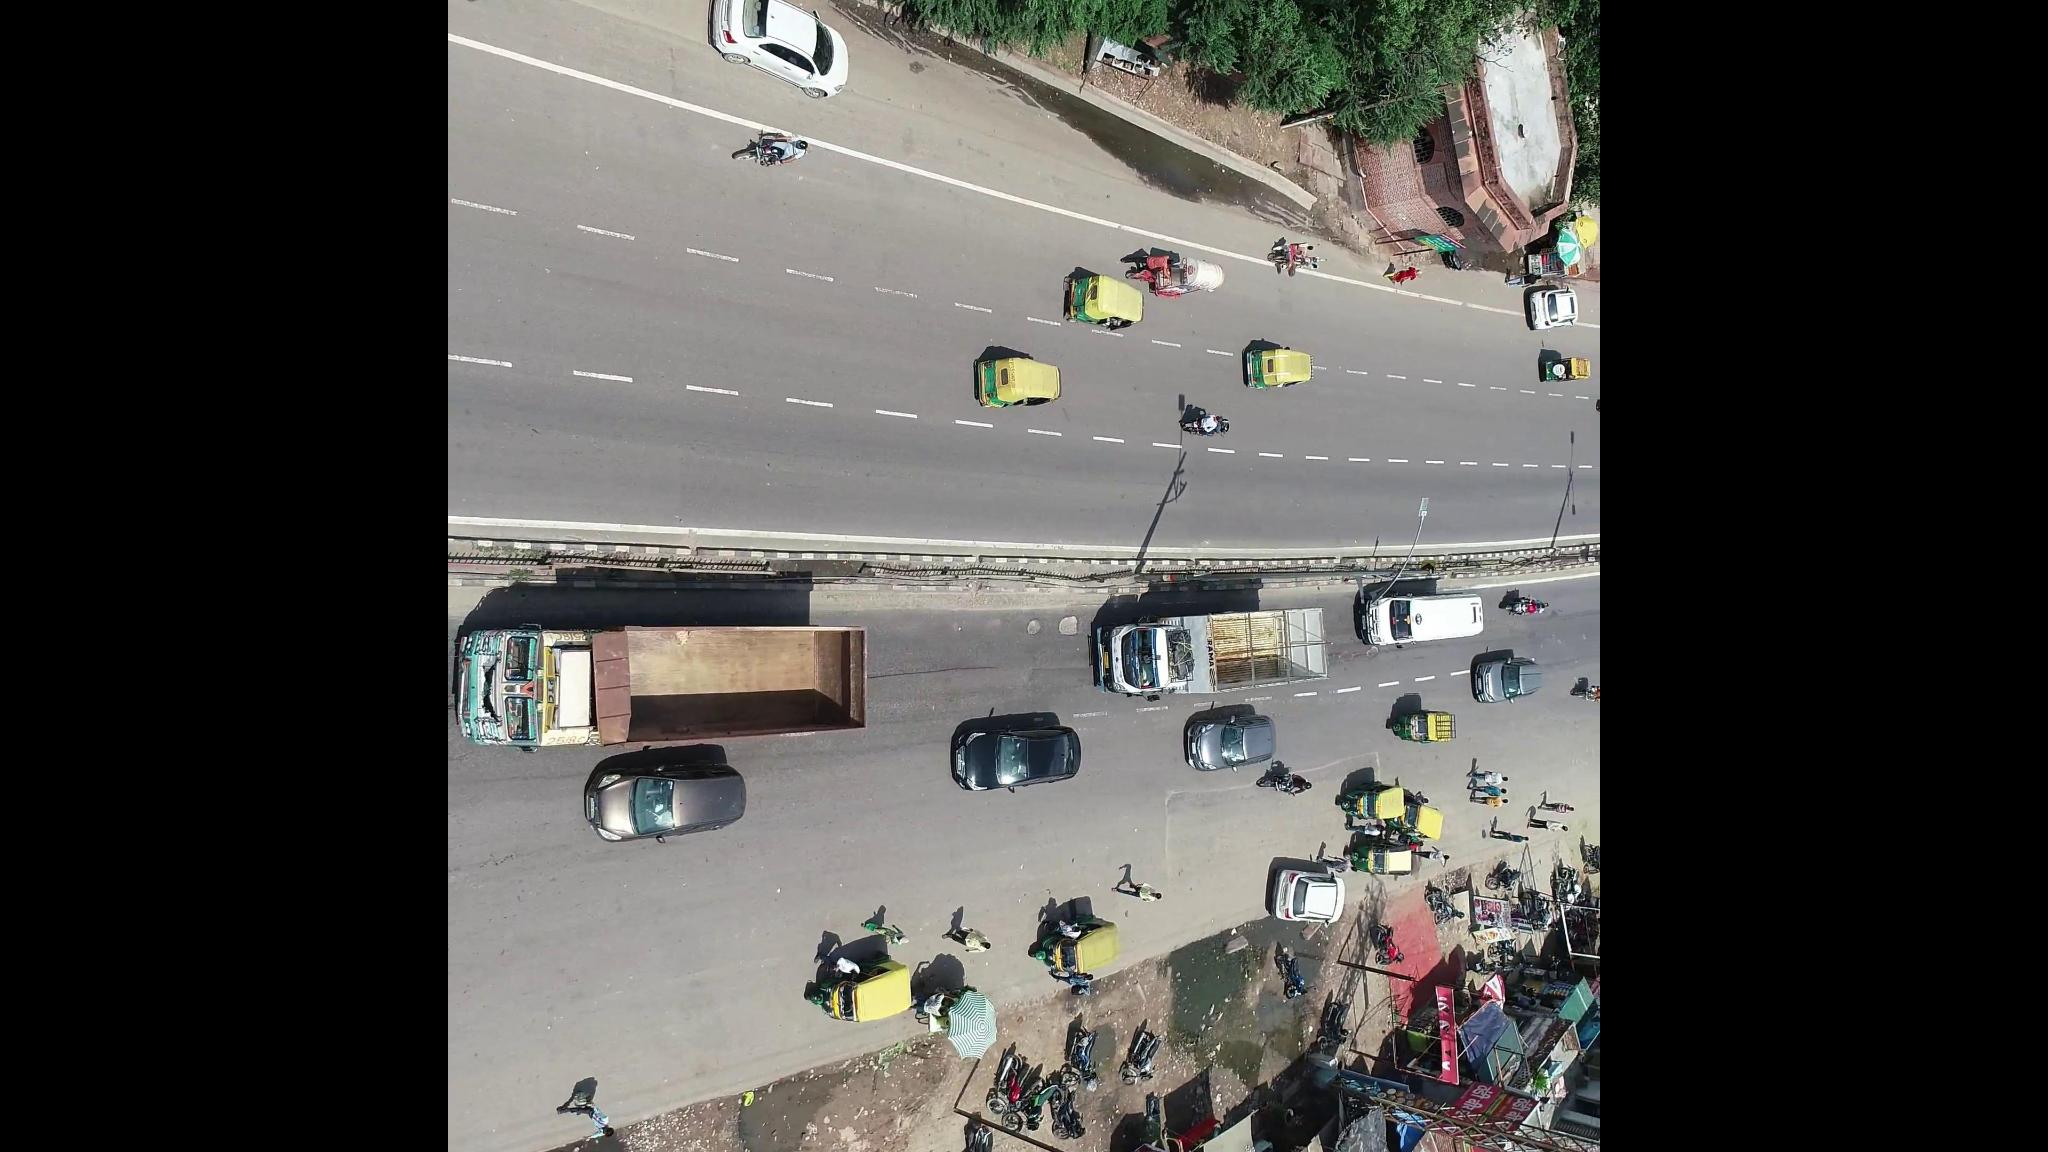Potholes: (999, 608, 1099, 654), (1350, 643, 1388, 671)
Waterlogging: (1066, 103, 1207, 190)
